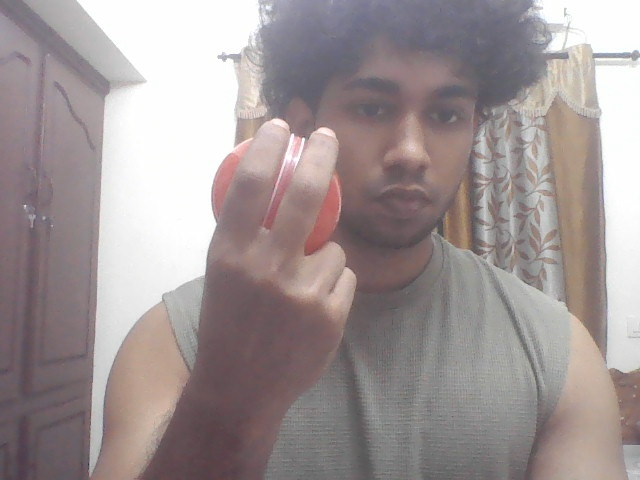cricket_ball: (204, 127, 347, 258)
